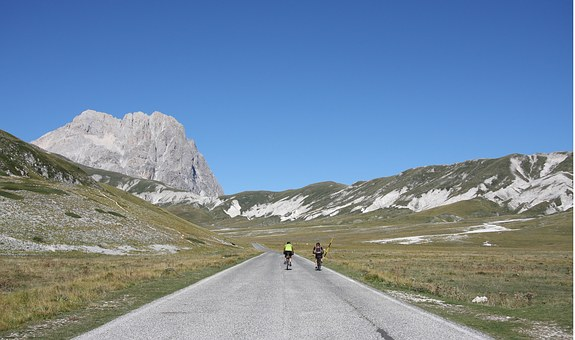bikerider: (310, 241, 327, 273), (278, 238, 295, 269)
